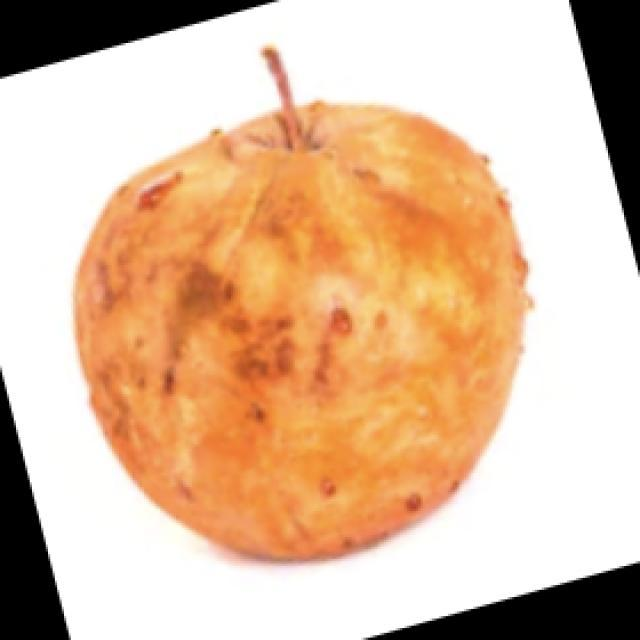Rotten: (71, 102, 535, 570)
